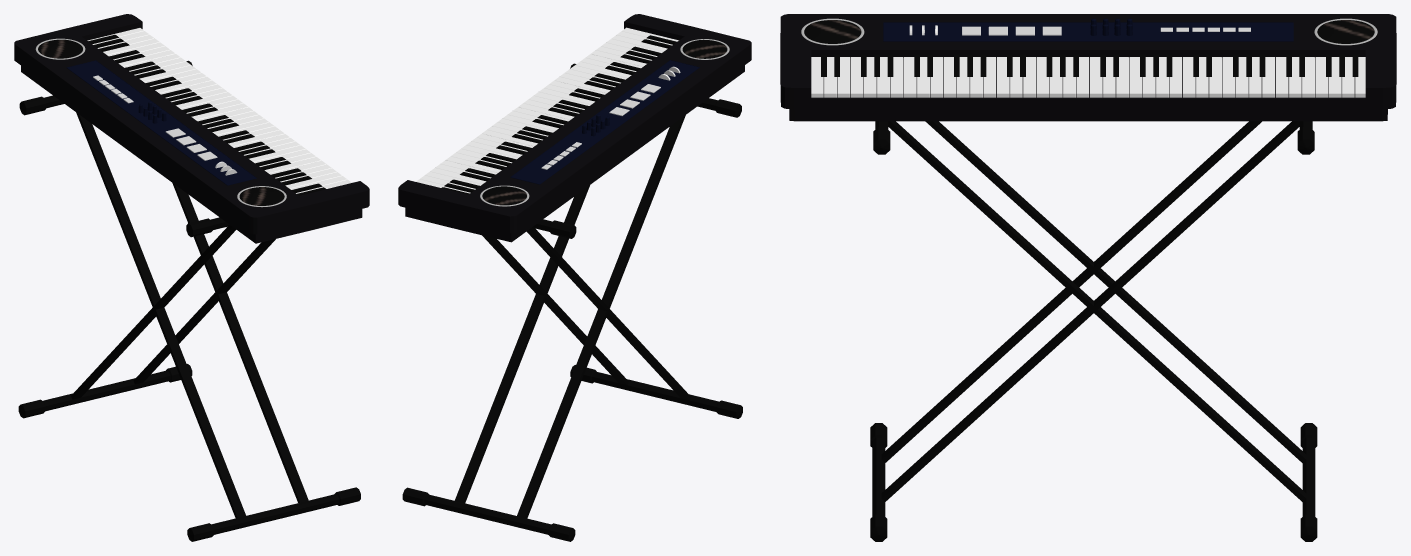
The model's file is Tastiera.fbx.
The picture shows the model from 3 angles, left to right: view 1: azimuth 30°, elevation 25°; view 2: azimuth 150°, elevation 25°; view 3: azimuth 270°, elevation 25°; orthographic projection. The views are drawn at different scales.
Visible parts, largest first — view 1: Corpo, Gamba1, Cube.013, control_panel, Cube.007, Cube; view 2: Corpo, Gamba1, Cube.013, control_panel, Cube.007, Cube; view 3: Corpo, Gamba1, Cube.013, control_panel, Cube, Cube.007.
Boxes of the visible parts, box(x1,y1,x2,y2) form: Corpo: box(14, 14, 369, 243); Gamba1: box(18, 60, 360, 541); Cube.013: box(87, 28, 351, 195); control_panel: box(66, 60, 256, 185); Cube.007: box(38, 39, 82, 58); Cube: box(239, 187, 284, 205); Corpo: box(398, 14, 751, 242); Gamba1: box(402, 63, 742, 541); Cube.013: box(416, 27, 678, 194); control_panel: box(510, 60, 699, 184); Cube.007: box(482, 186, 526, 205); Cube: box(682, 39, 727, 58); Corpo: box(780, 14, 1396, 121); Gamba1: box(870, 121, 1317, 541); Cube.013: box(811, 54, 1365, 97); control_panel: box(883, 22, 1293, 41); Cube: box(804, 20, 861, 43); Cube.007: box(1317, 20, 1374, 43).
Bounding box in the file's own units: 41.33 × 82.09 × 102.
